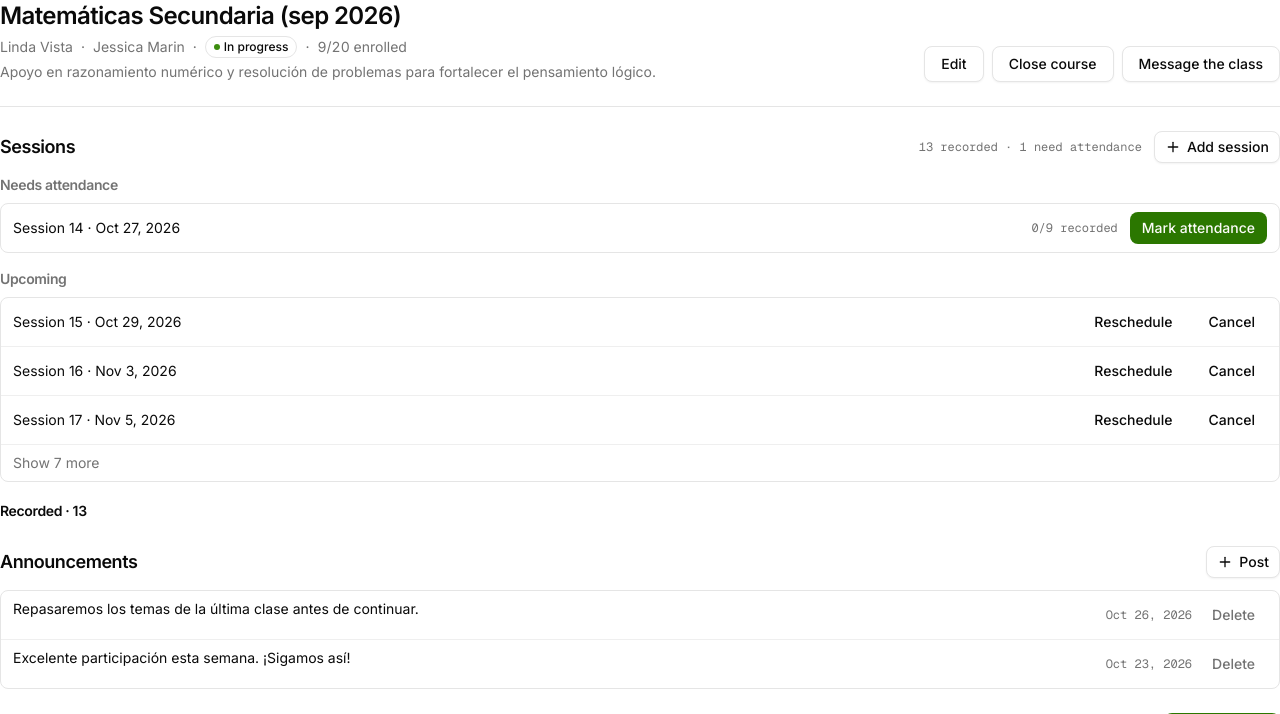
Test case: <CoursesDetailPage /> — one meta line and only sections with content (ADR-0051) › gives a poster a Post button rather than an always-open compose box
Expected: the field labelled "Share an update with the class…" is not shown
Click the button "Post" at [1243, 562], box [1206,546,1279,578]
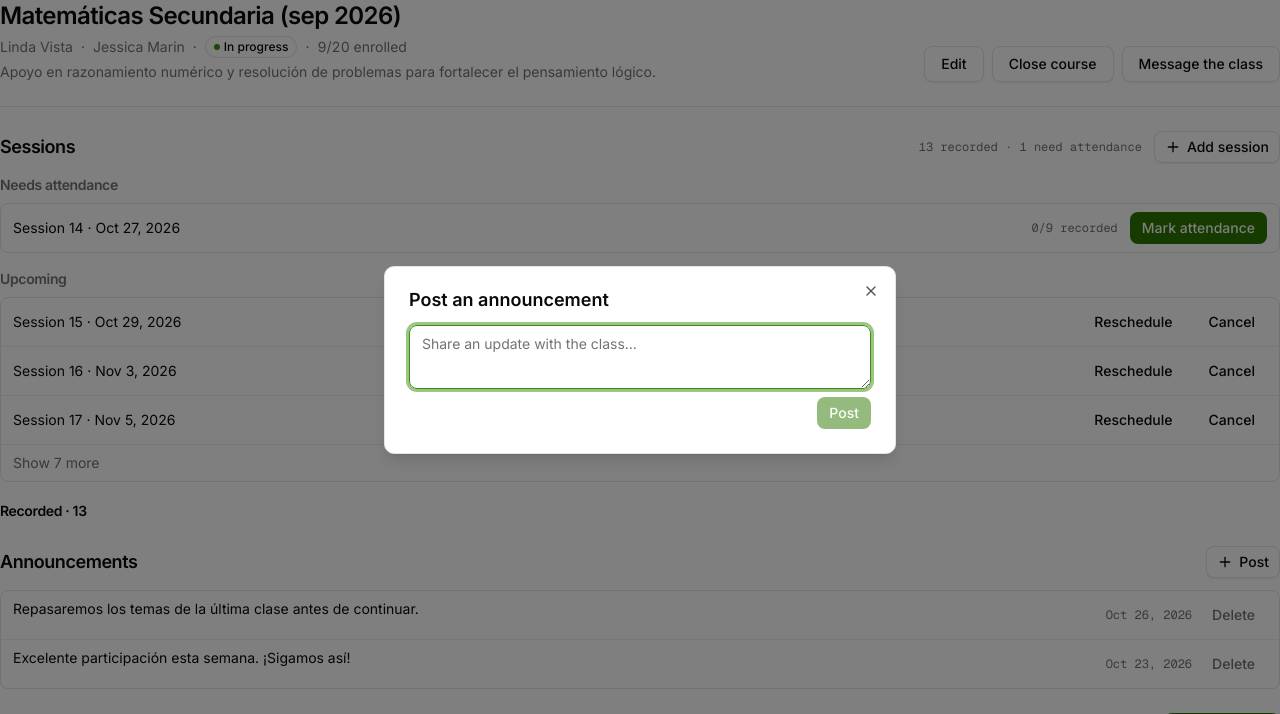
Result: the text box labelled "Share an update with the class…" is shown at [409,325,871,389]
